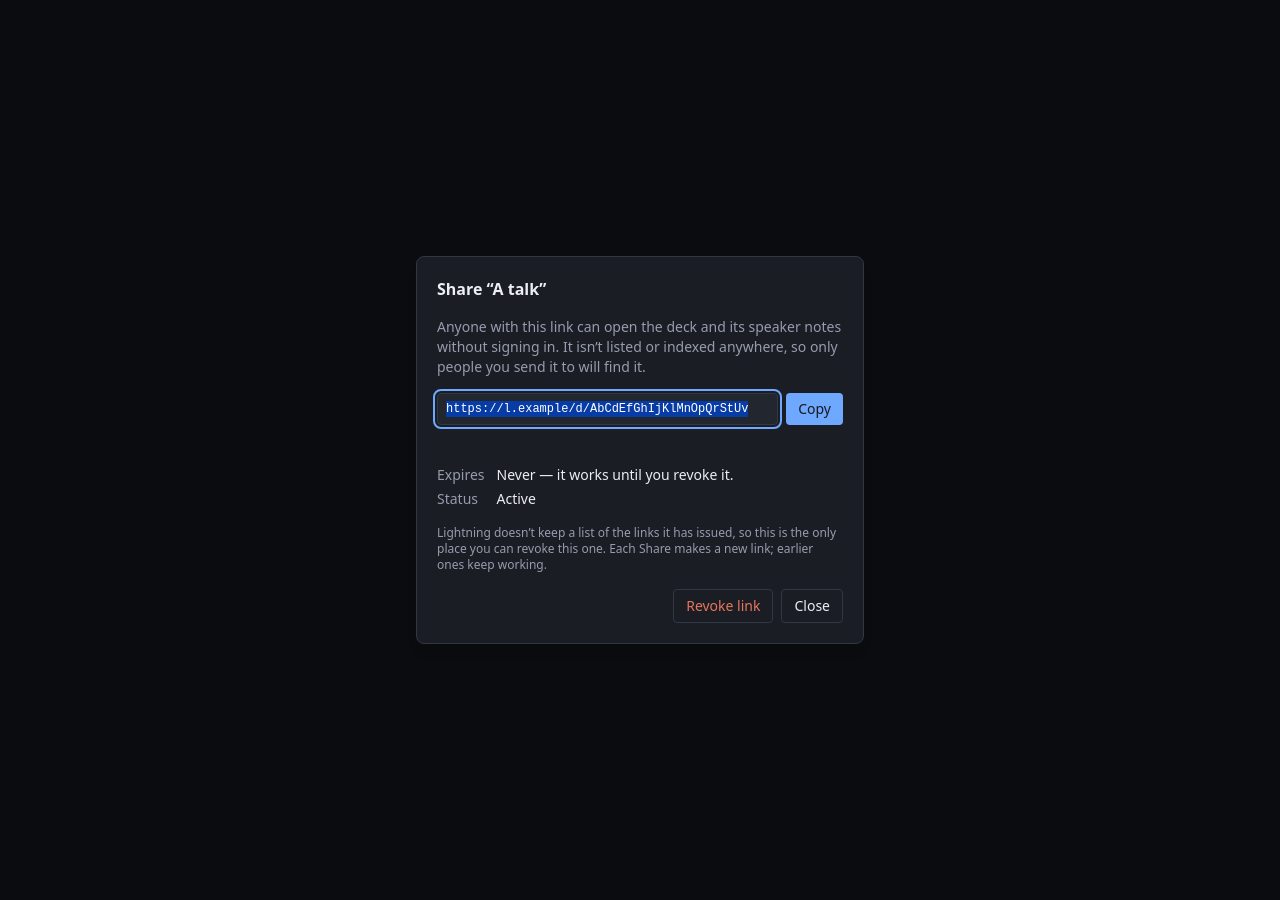
Test: ShareDialog › tells the user how to finish when only the selection fallback worked
Click the button "Copy" at (815, 409), box x1=786 y1=393 x2=843 y2=425
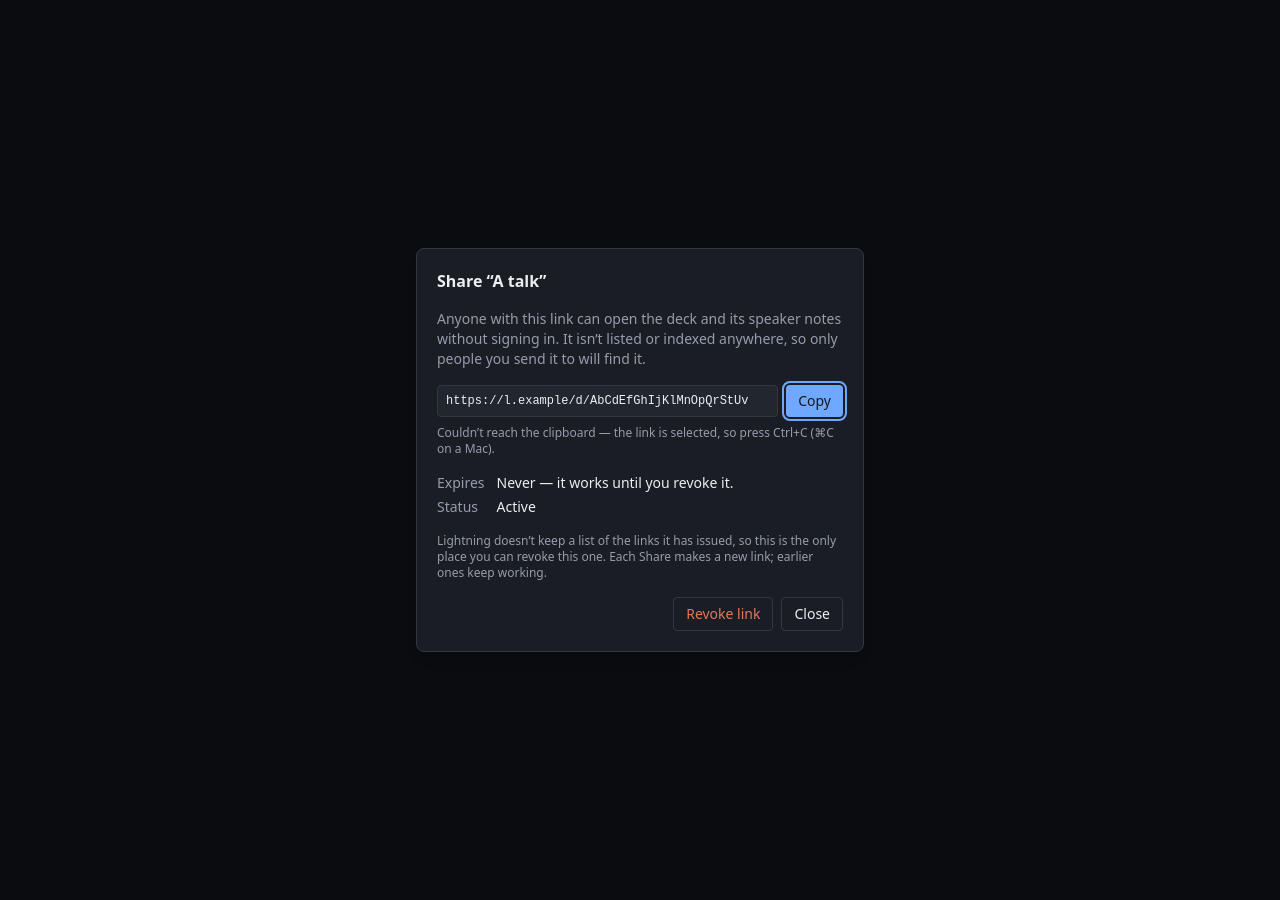
Result: the text "press Ctrl+C" is shown at x1=437 y1=424 x2=834 y2=457
